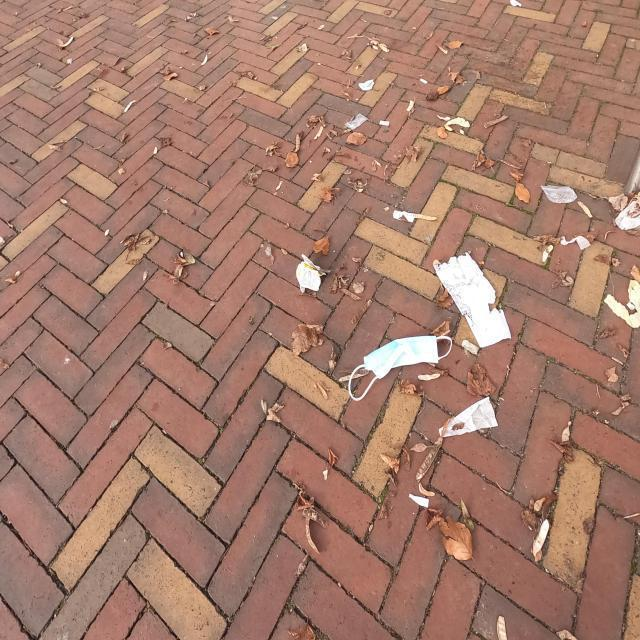Mask: (343, 333, 453, 387)
